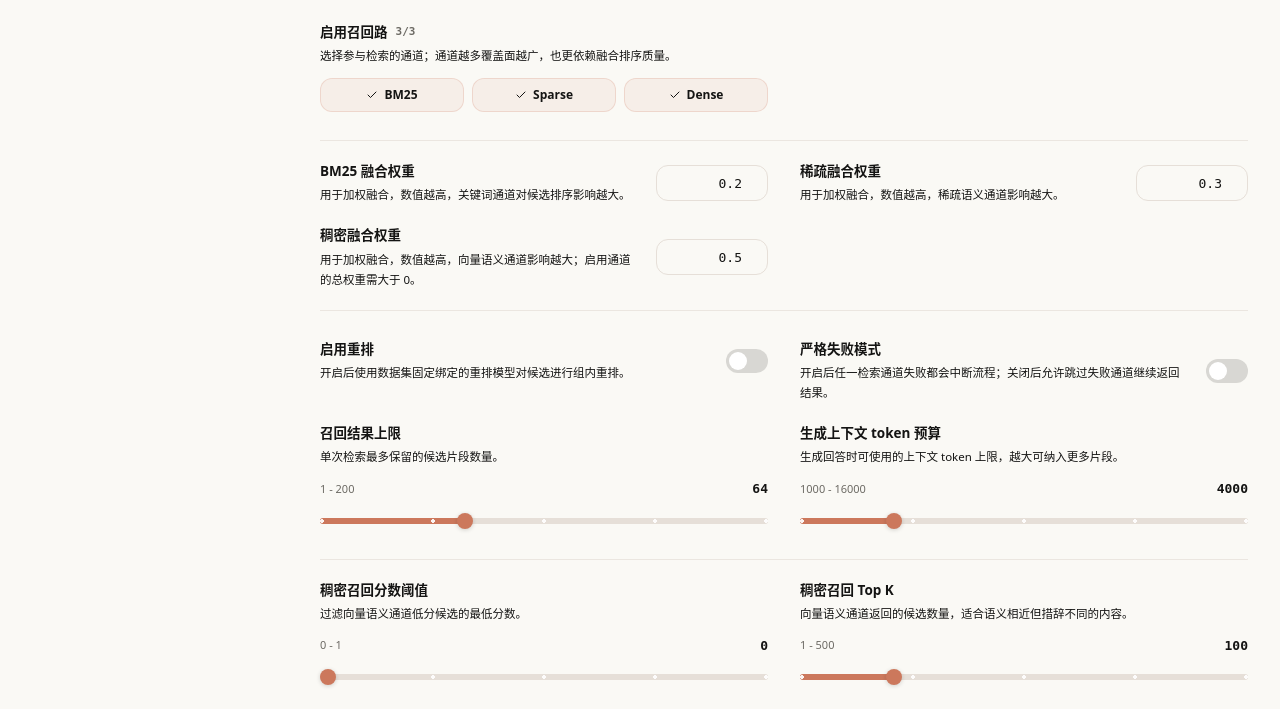
it: dataset parse config model defaults › preselects the 启用重排 user default when the feature is enabled
The image size is (1280, 709).
(page scrolled)
Click the button named "启用重排".
click(747, 361)  # box [726,349,768,373]
(page scrolled)
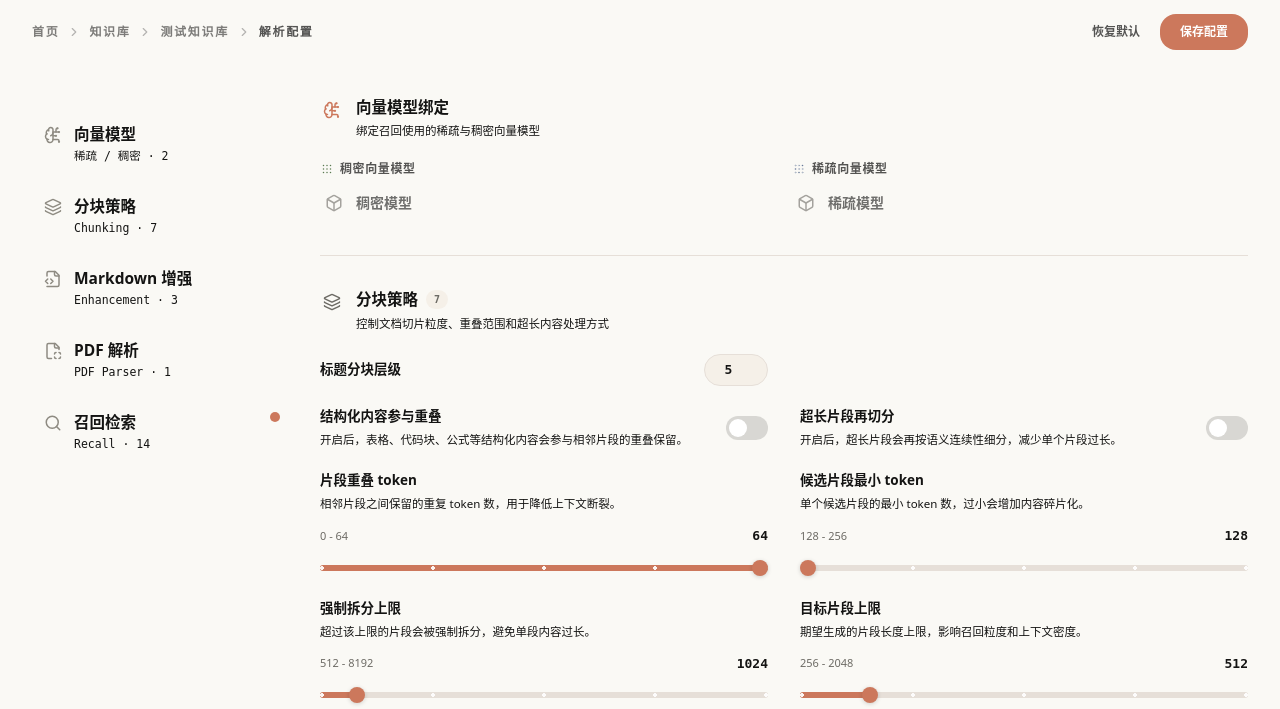
Expected: the button "保存配置" is enabled, [1160,14,1248,50]
